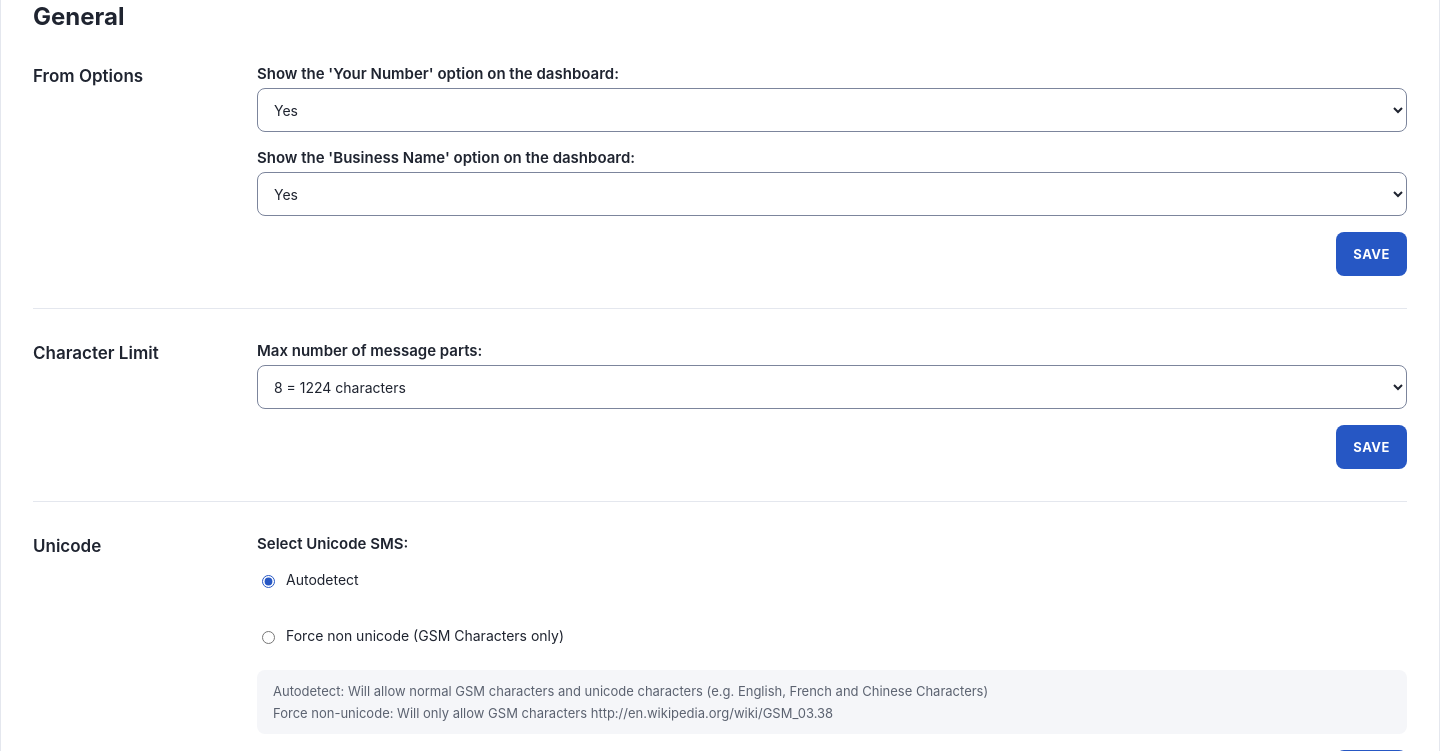
Test: MessagingGeneralTab › saves the unicode choice from its own section
Click the radio button labelled "Force non unicode (GSM Characters only)": click(268, 638) [262, 631, 275, 644]
(page scrolled)
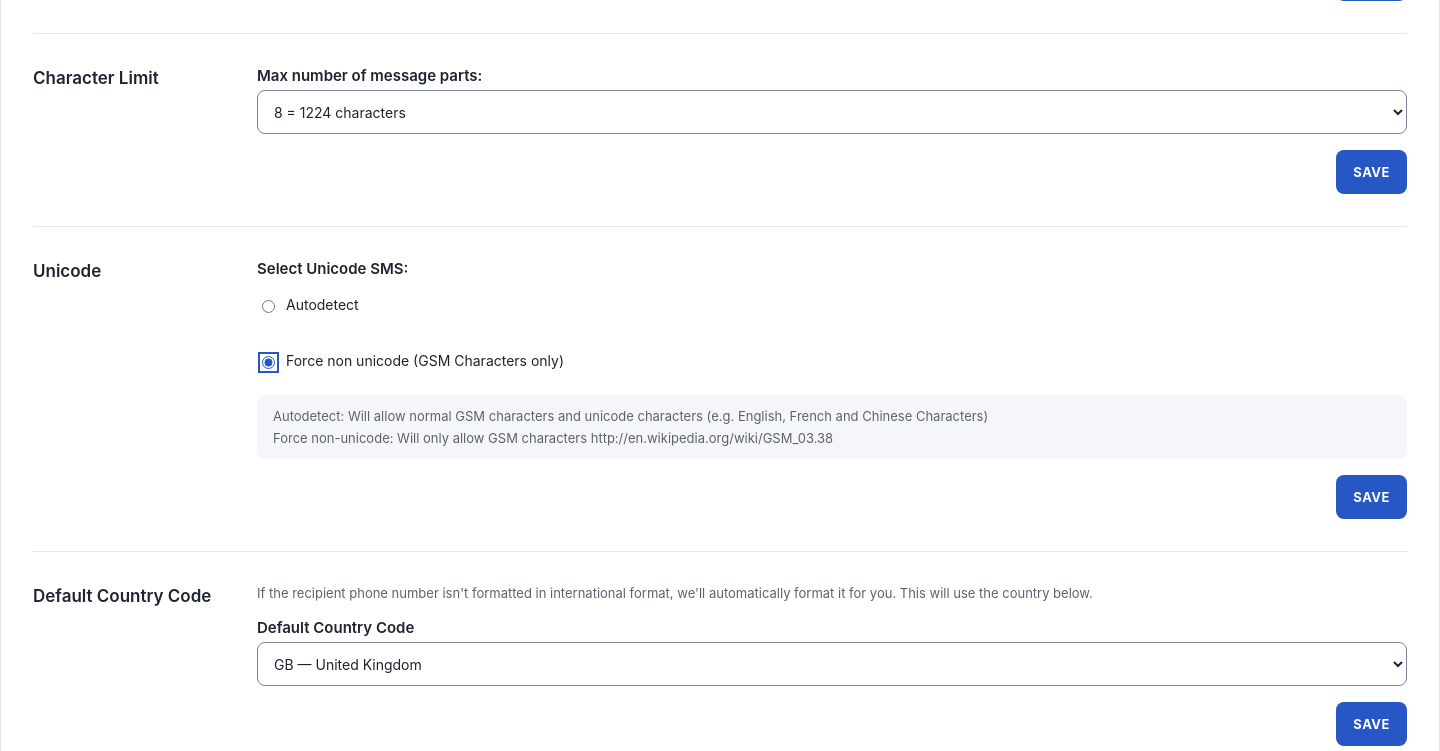
Click the 3rd button "Save": click(1372, 497) [1336, 475, 1407, 519]
(page scrolled)
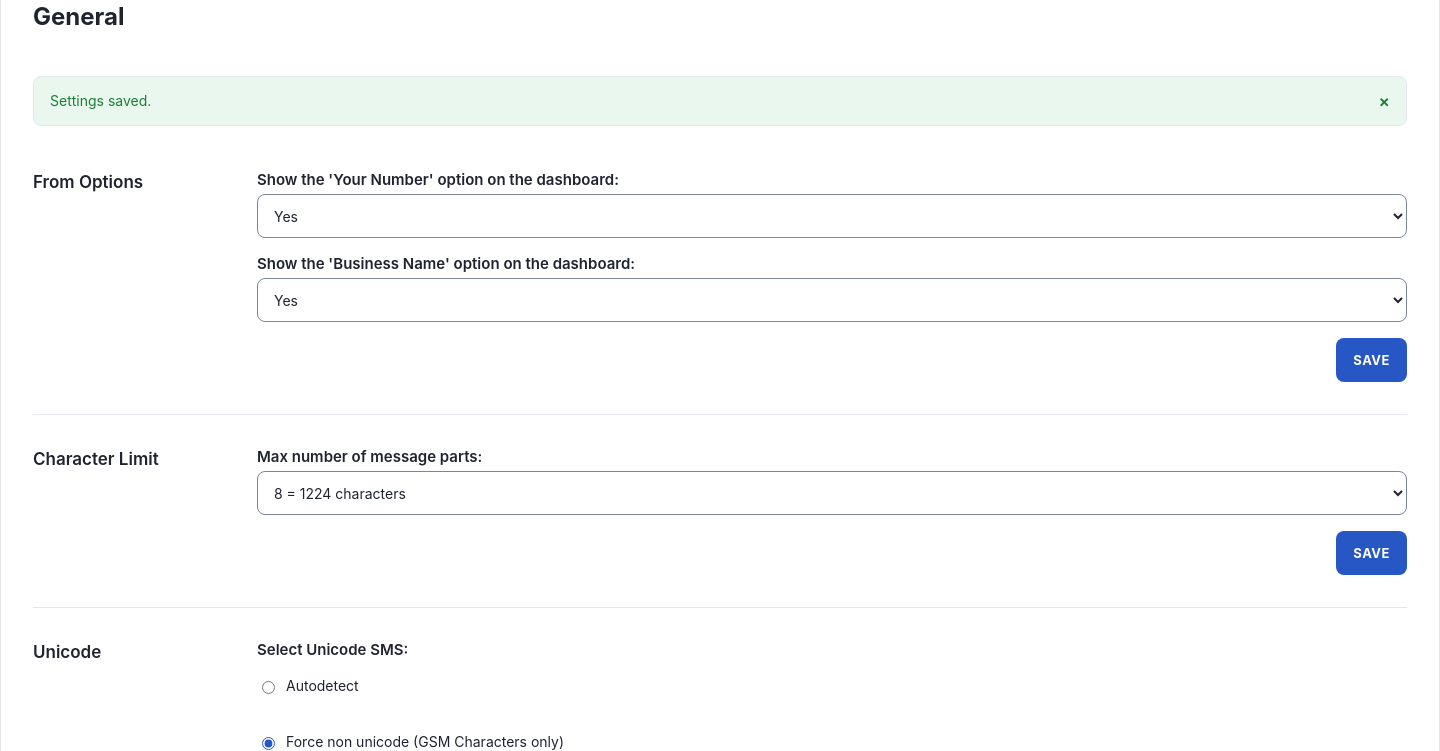
Result: the text "Settings saved." is shown at [50, 92, 151, 109]
